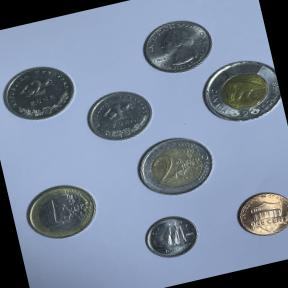coin: (127, 126, 222, 208), (195, 52, 285, 132), (16, 174, 106, 250), (134, 10, 220, 82), (0, 55, 82, 129), (137, 206, 207, 267), (229, 182, 288, 244)
